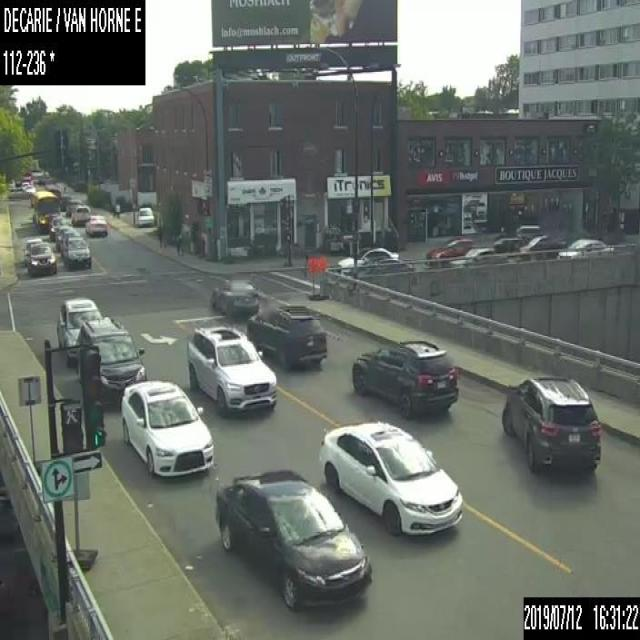bus: (31, 190, 59, 233)
construction: (66, 469, 99, 568), (16, 374, 46, 476), (316, 254, 327, 300), (306, 253, 316, 300)
pedestrian: (157, 217, 167, 249), (174, 224, 183, 256), (113, 200, 119, 219)
vehicle: (214, 465, 371, 611), (320, 421, 462, 534), (500, 373, 602, 472), (121, 378, 213, 477), (351, 337, 458, 416), (186, 324, 276, 414), (74, 316, 144, 406), (246, 304, 325, 370), (56, 296, 100, 368), (210, 278, 258, 319), (337, 241, 398, 273), (425, 233, 484, 266), (491, 223, 545, 251), (447, 245, 508, 267), (518, 232, 566, 259), (556, 236, 614, 257), (354, 258, 414, 276), (26, 242, 56, 276), (62, 236, 90, 269), (58, 230, 80, 256), (22, 238, 42, 265), (84, 214, 107, 237), (54, 224, 72, 248), (49, 216, 67, 240), (71, 204, 90, 226), (136, 206, 154, 227), (65, 198, 81, 216), (60, 192, 72, 210), (24, 184, 35, 194)
